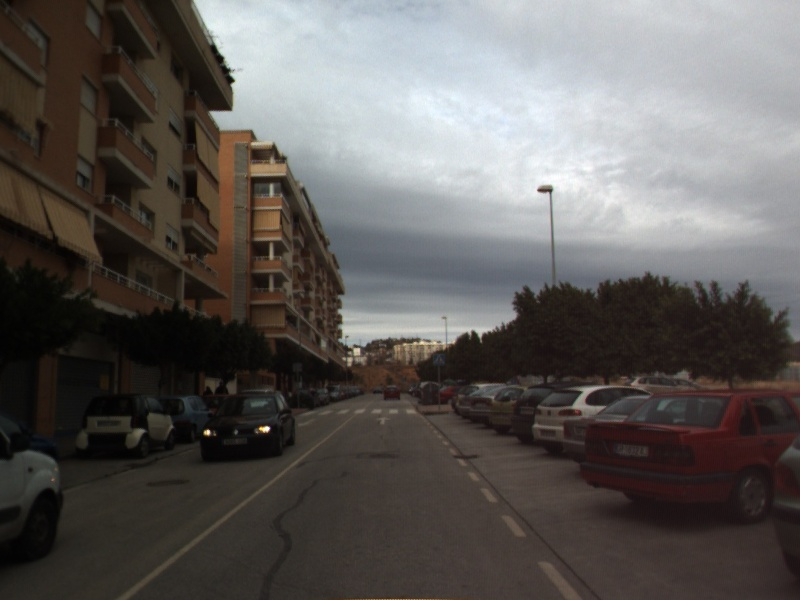STRAIGHT: (374, 415, 393, 427)
